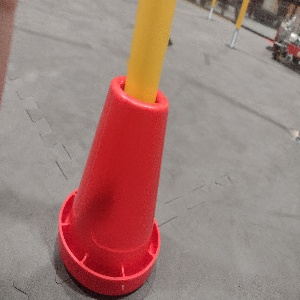Red_1: (58, 71, 170, 295)
